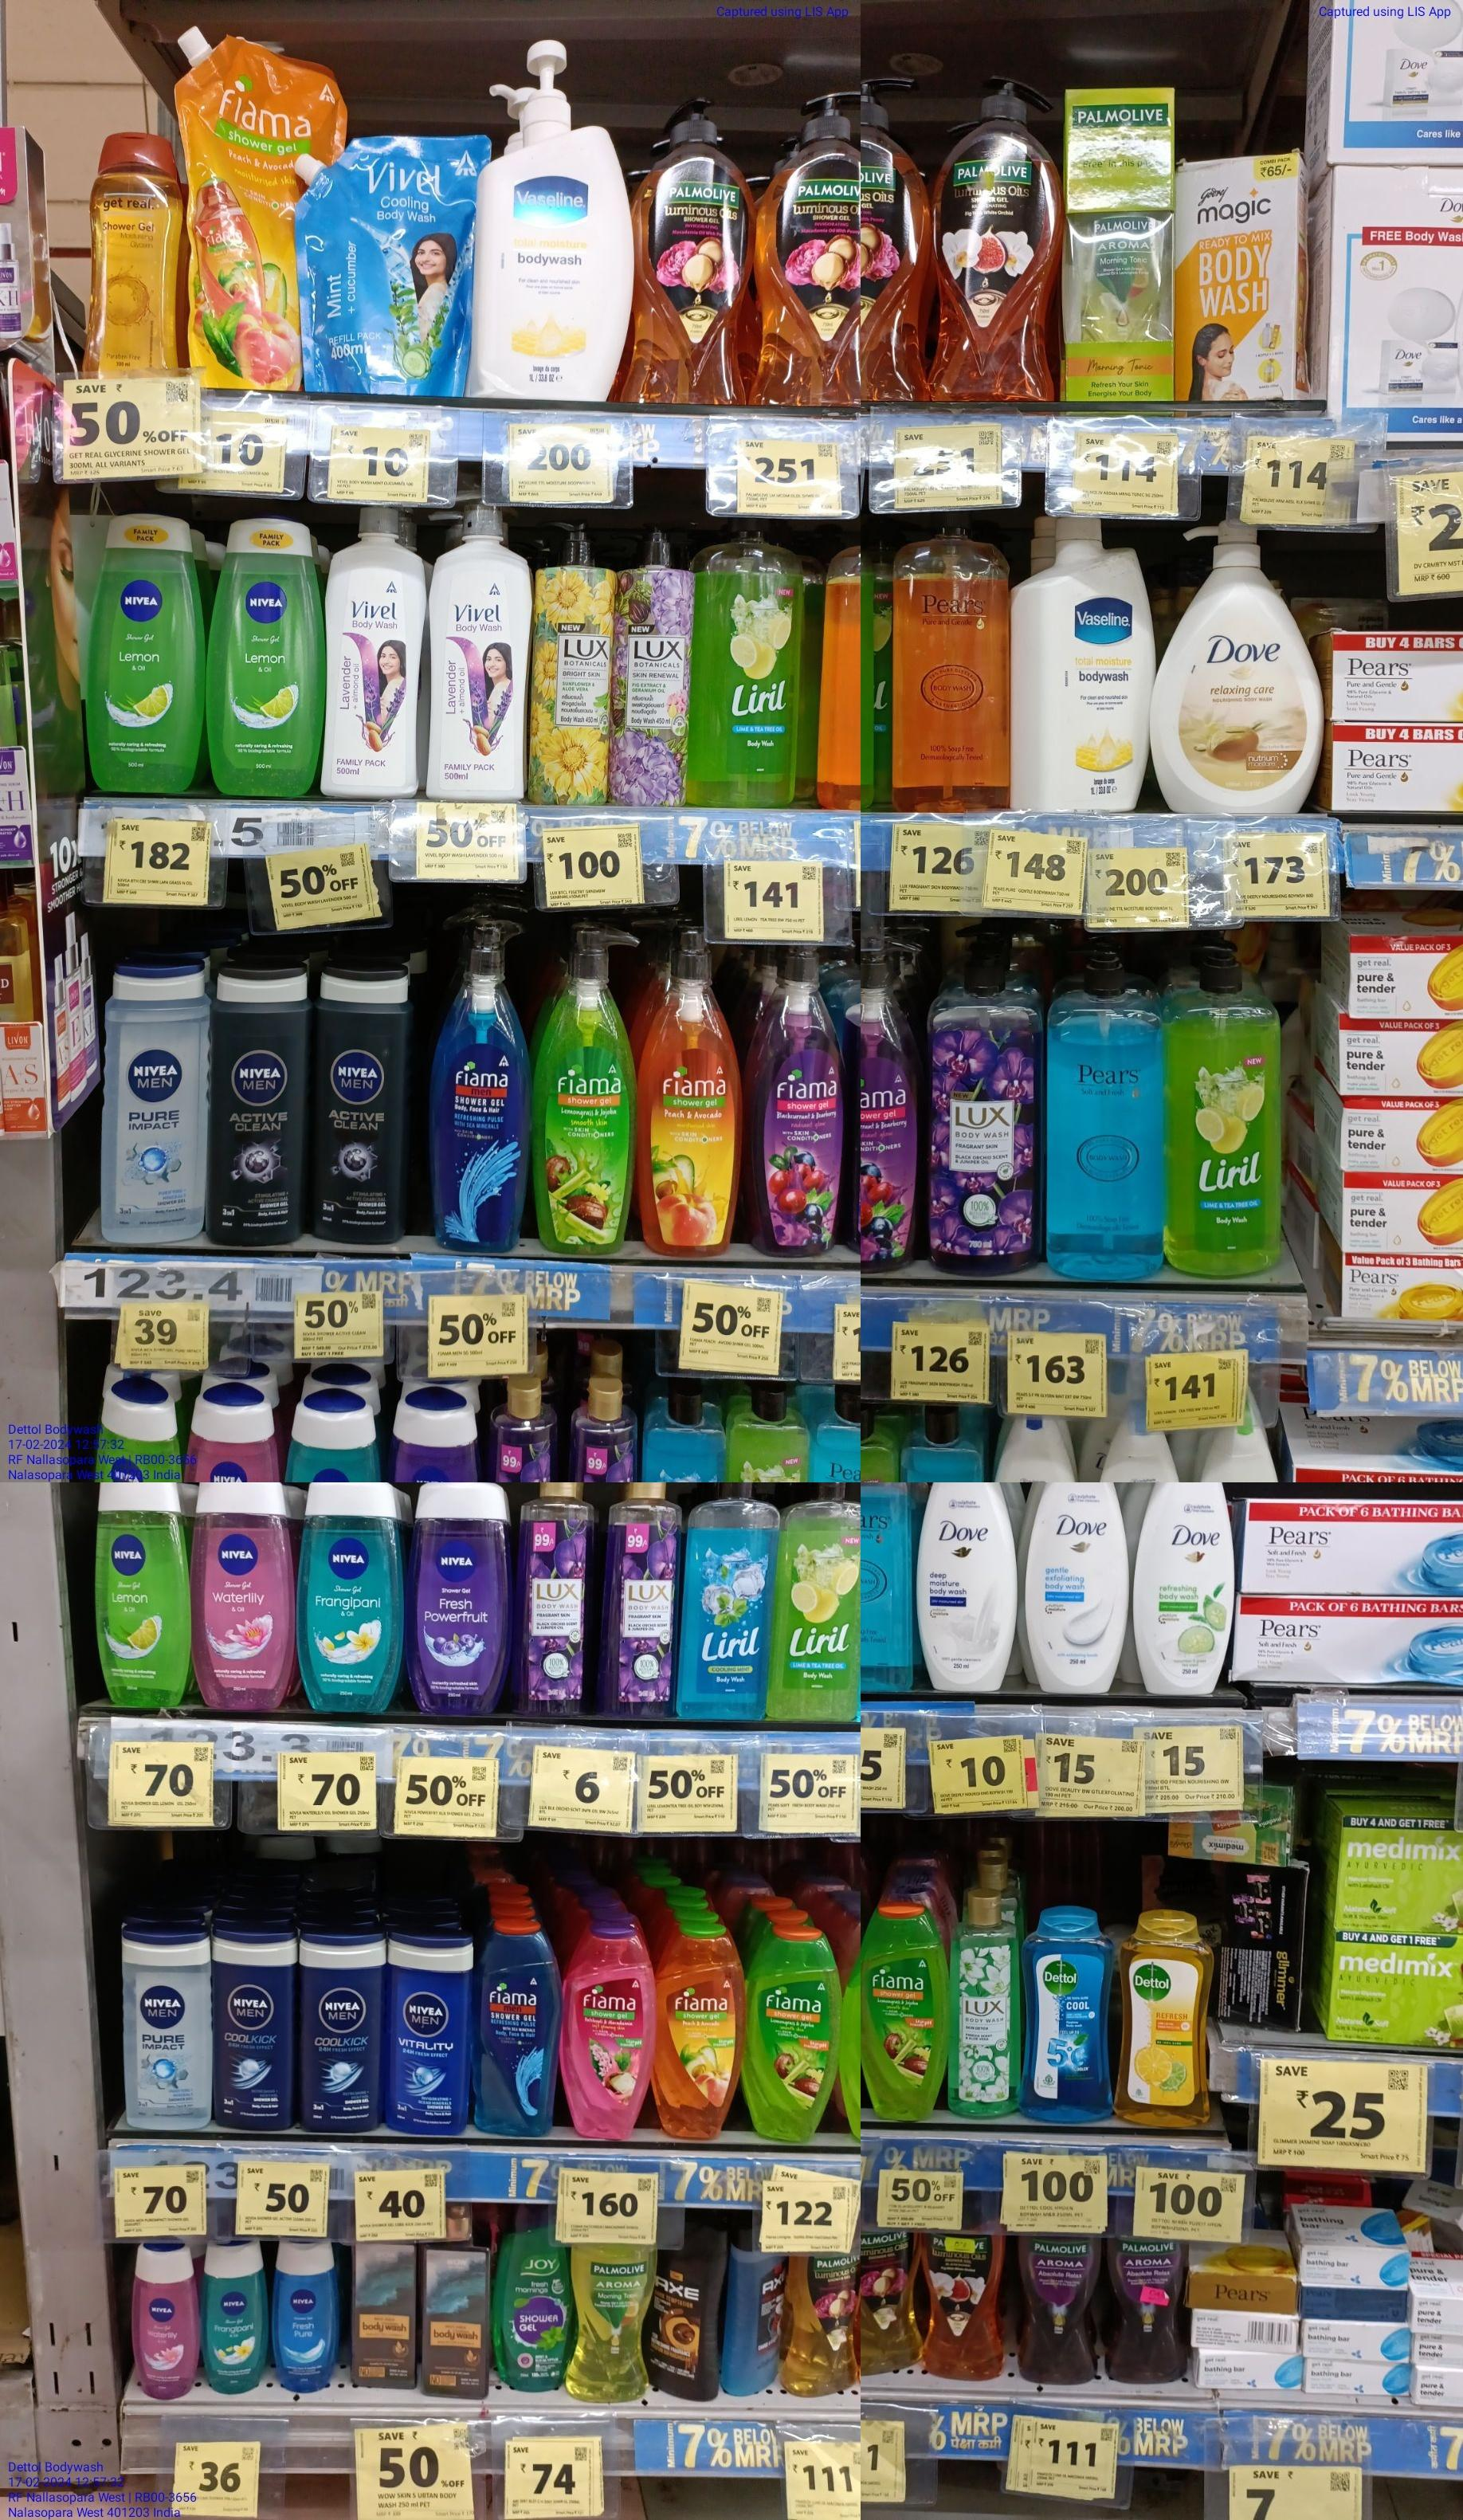Dettol_Bodywash_Cool: (1028, 1912, 1116, 2128)
Dettol_Bodywash_Refresh: (1123, 1924, 1217, 2126)
Dove_Deep_Moisture_Body_Wash_250ML: (914, 1484, 1017, 1696)
Dove_Gentle_Exfoliating_Body_Wash_250ML: (1029, 1479, 1130, 1691)
Dove_Refreshing_Body_Wash_250ML: (1141, 1479, 1233, 1693)
Fiama_Shower_Gel_Lemongrass_and_Jojoba_250ML: (751, 1923, 836, 2142), (866, 1909, 951, 2119)
Fiama_Shower_Gel_Patchouli_and_Macadamia_250ML: (561, 1931, 653, 2140)
Fiama_Shower_Gel_Peach_and_Avocado_250ML: (655, 1923, 747, 2140)
Joy_Shower_Gel_Mint_and_Eucalyptus_250ML: (495, 2203, 568, 2389)
Liril_Cooling_Mint_Body_Wash_250ML: (690, 1482, 772, 1726)
Liril_Lime_and_Tea_Tree_Oil_Body_Wash_250ML: (775, 1480, 860, 1724)
Lux_Black_Orchid_Scent_and_Juniper_Oil_Body_Wash_245ML: (521, 1482, 594, 1707), (611, 1480, 683, 1703)
Lux_Body_Wash_Skin_Detox_Freesia_Scent_and_Alove_Vera_245ML: (954, 1897, 1017, 2118)
Nivea_Shower_Gel_Frangipani_and_Oil_250ML: (307, 1482, 401, 1714)
Nivea_Shower_Gel_Fresh_Powerfruit_250ML: (416, 1480, 510, 1717), (94, 1487, 188, 1705)
Nivea_Shower_Gel_Lemon_and_Oil_250ML: (204, 517, 326, 789), (82, 517, 200, 789)
Nivea_Shower_Gel_Waterlily_and_Oil_250ML: (197, 1484, 293, 1710)
Palmolive_Aroma_Morning_Tonic_Shower_Gel_250ML: (566, 2241, 650, 2403)
Palmolive_Aroma_Relax_250ML: (1014, 2236, 1101, 2384), (1108, 2236, 1186, 2382)
Palmolive_Luminous_Oils_Invigorating_Macadamia_Oil_With_Peony_250ML: (785, 2257, 857, 2395), (860, 2236, 916, 2374)
Palmolive_Luminous_Oils_With_White_Orchid_Shower_Gel_250ML: (920, 2233, 1007, 2382)
